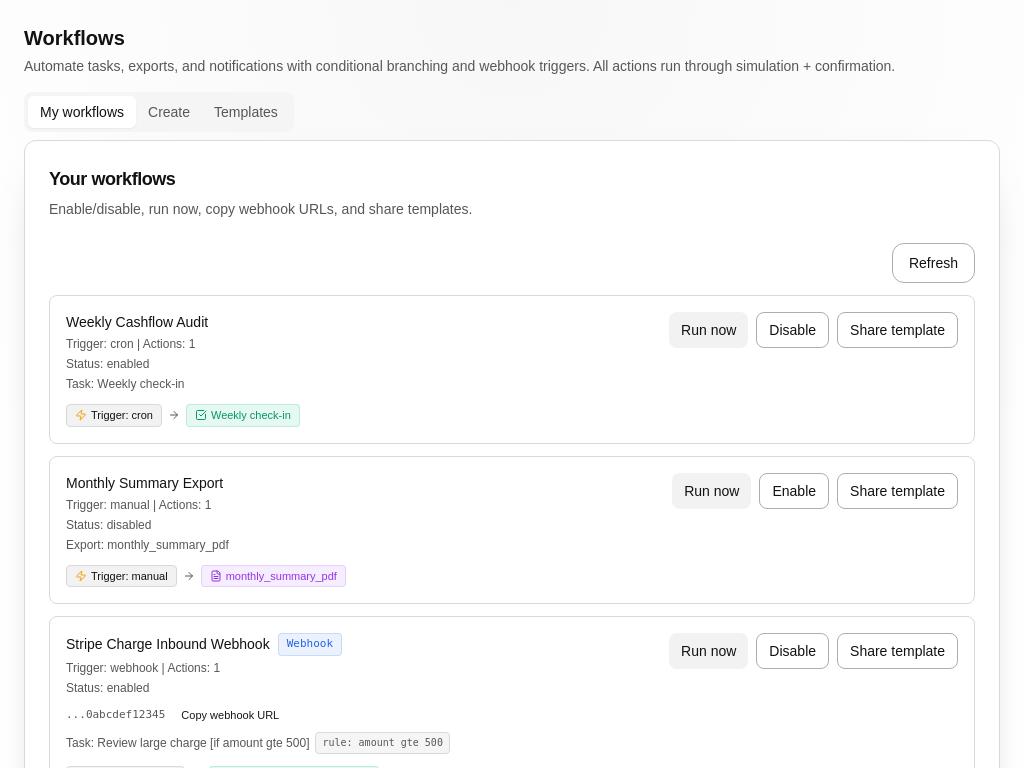
it: Workflows Page › summarises what a workflow run produced after confirmation
This screenshot has width=1024, height=768.
Later steps or results of the test are not shown.
Click the button with test id "workflow-run-btn". click: (709, 330)
box: [669,312,748,348]
(page scrolled)
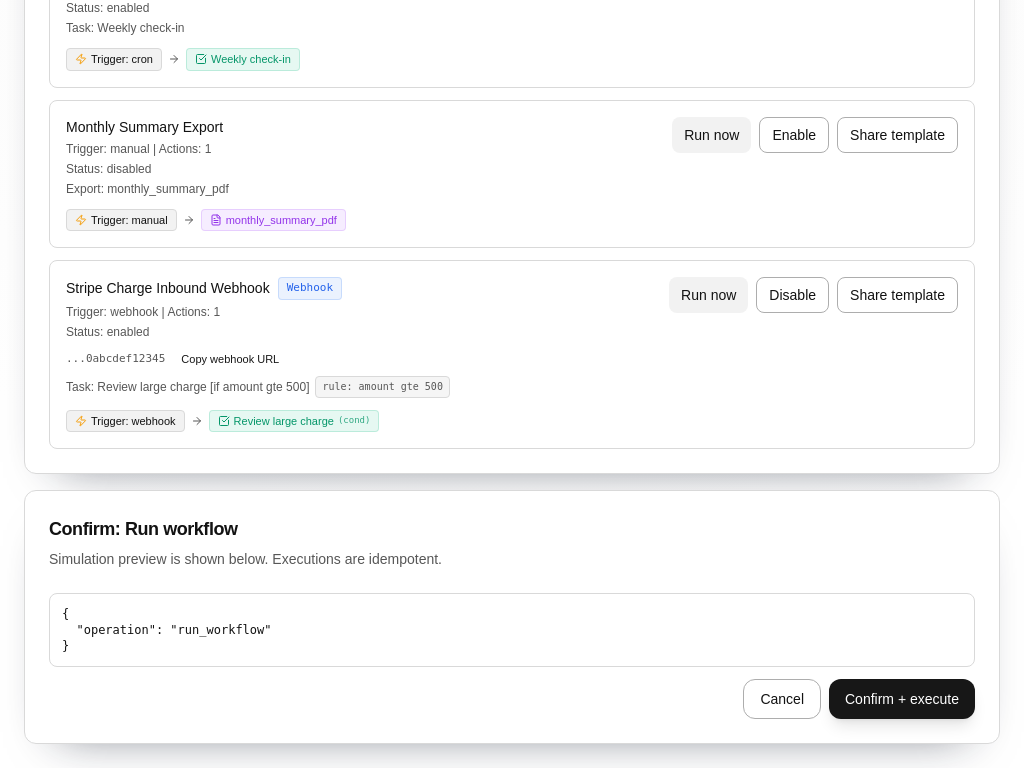
Check: the element with test id "confirm-dialog" is shown, box [24,490,1000,744]
